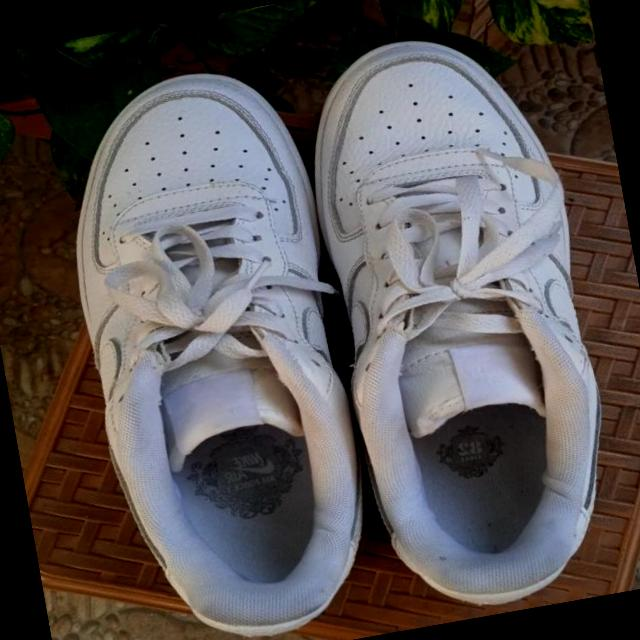nike_fake_airforce: (286, 14, 640, 623), (39, 51, 392, 640)
